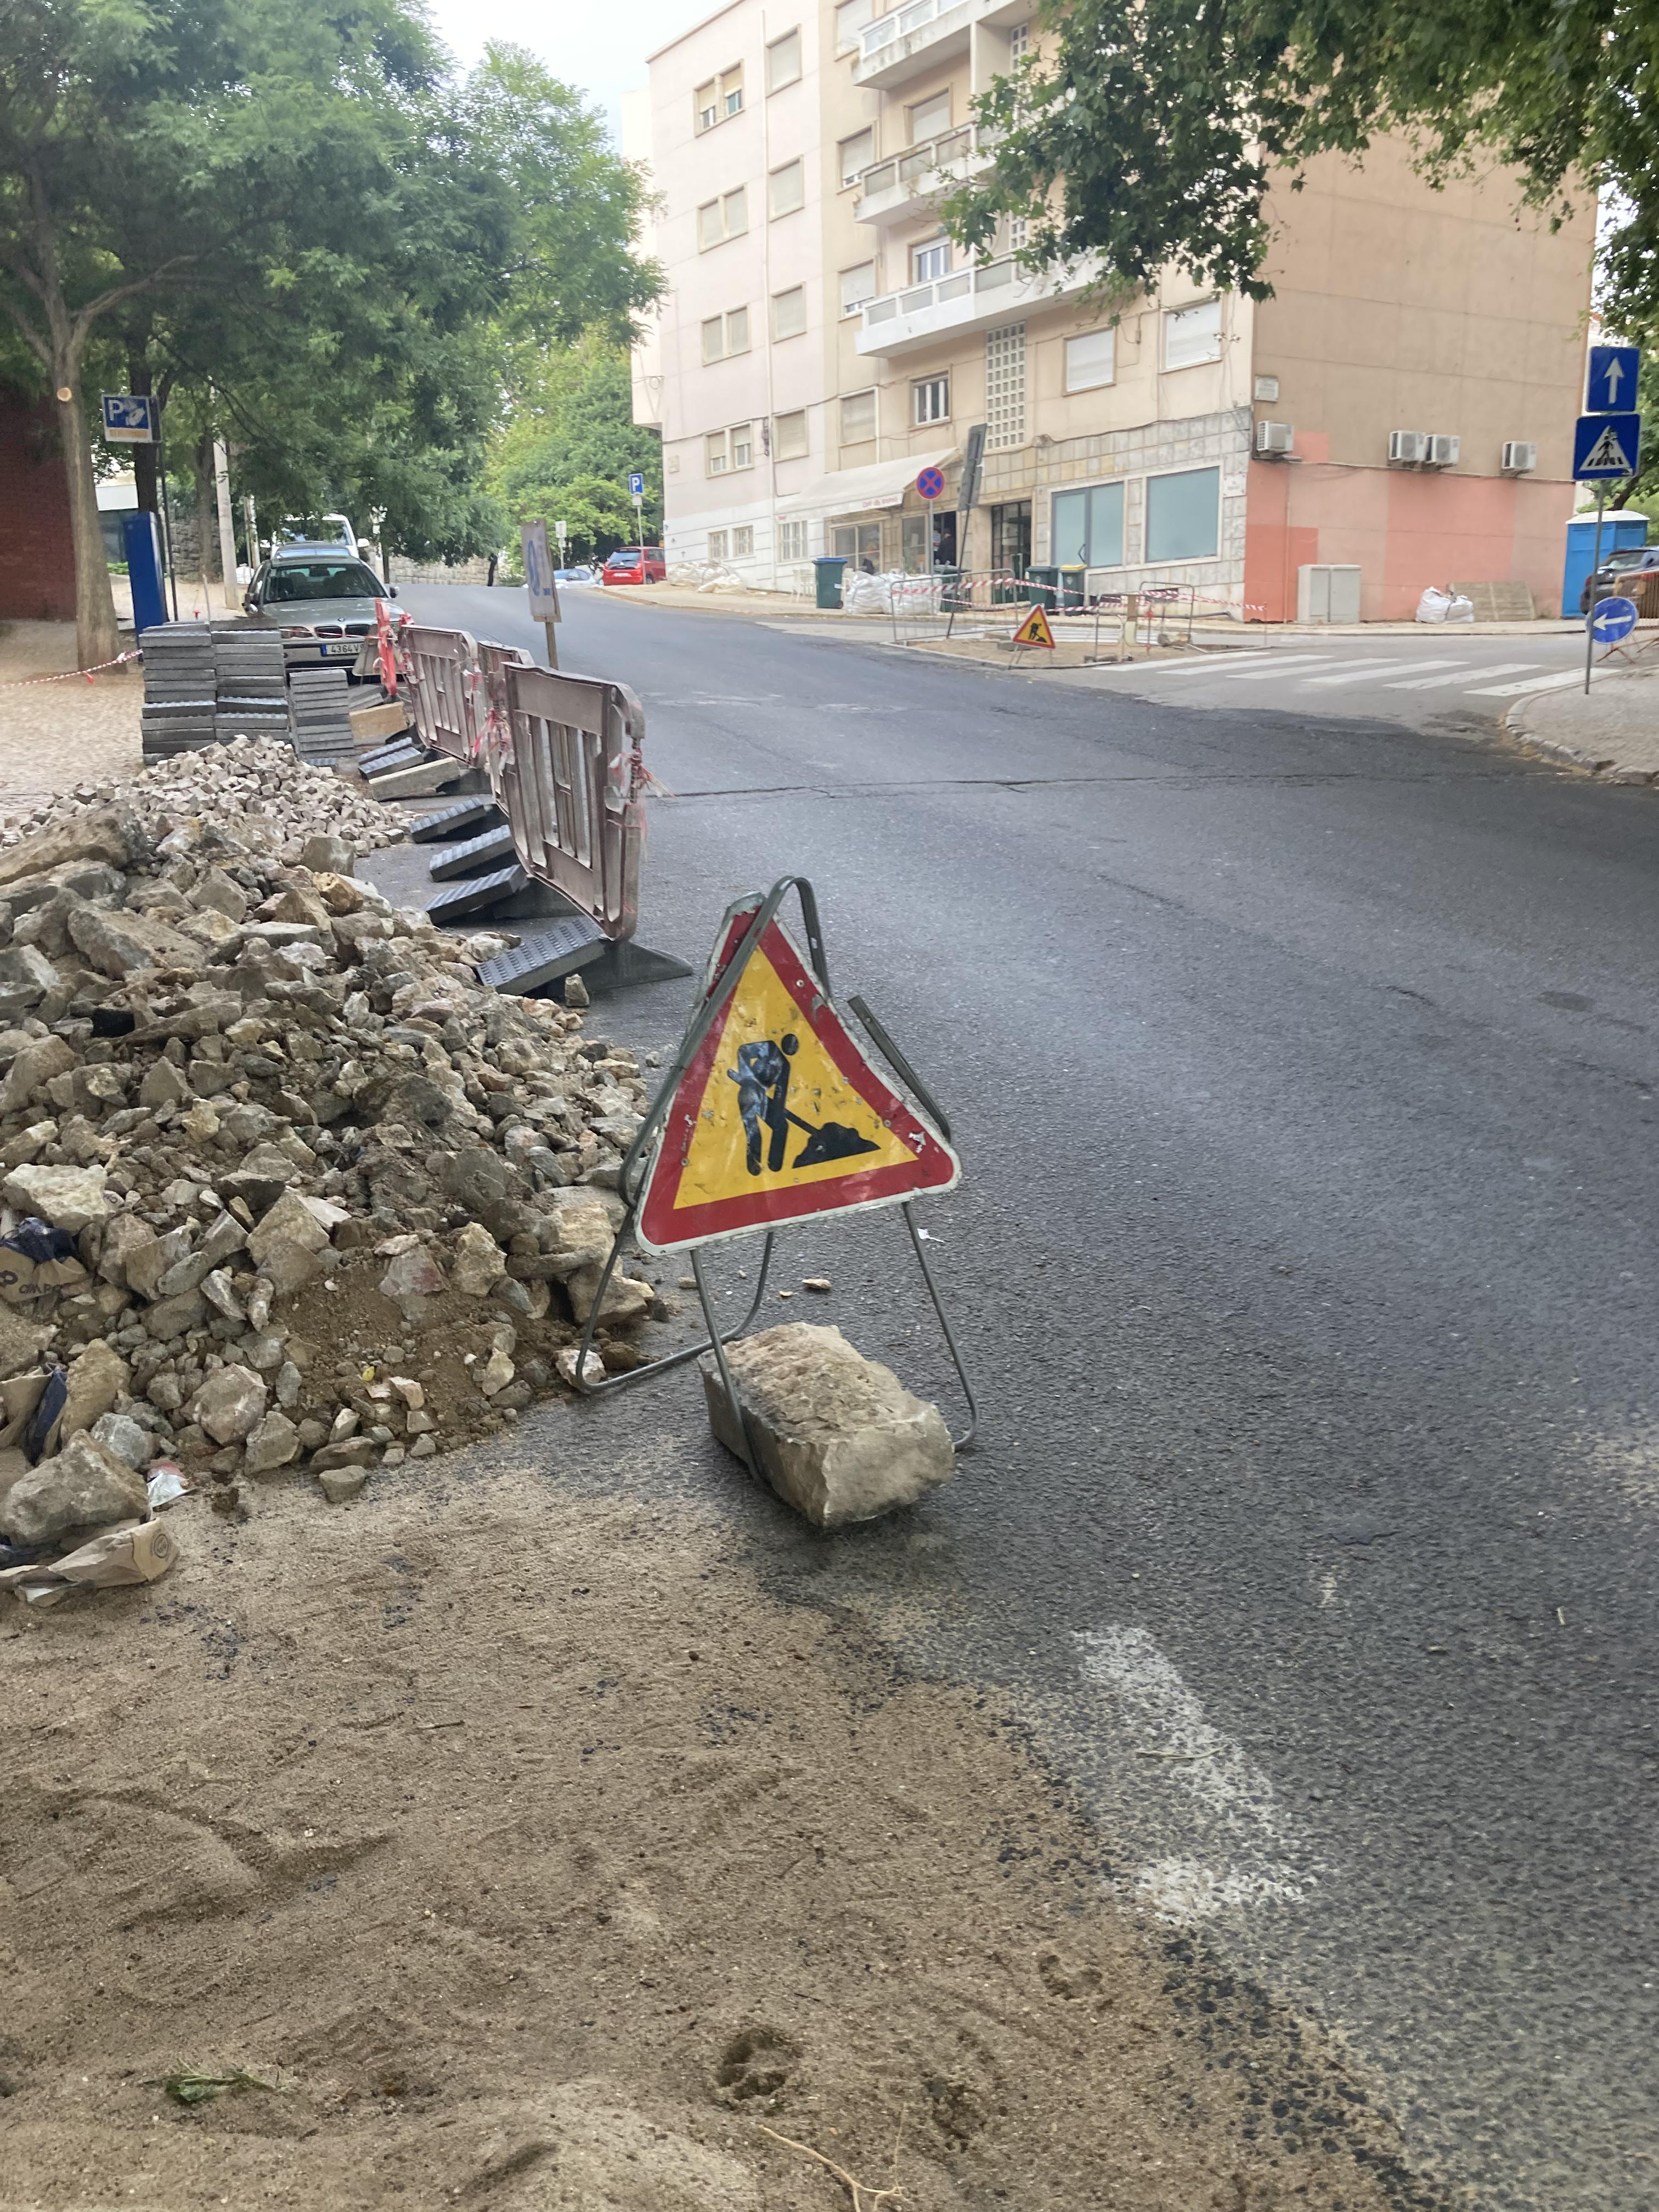Trabalhos na via: (615, 888, 943, 1256)
